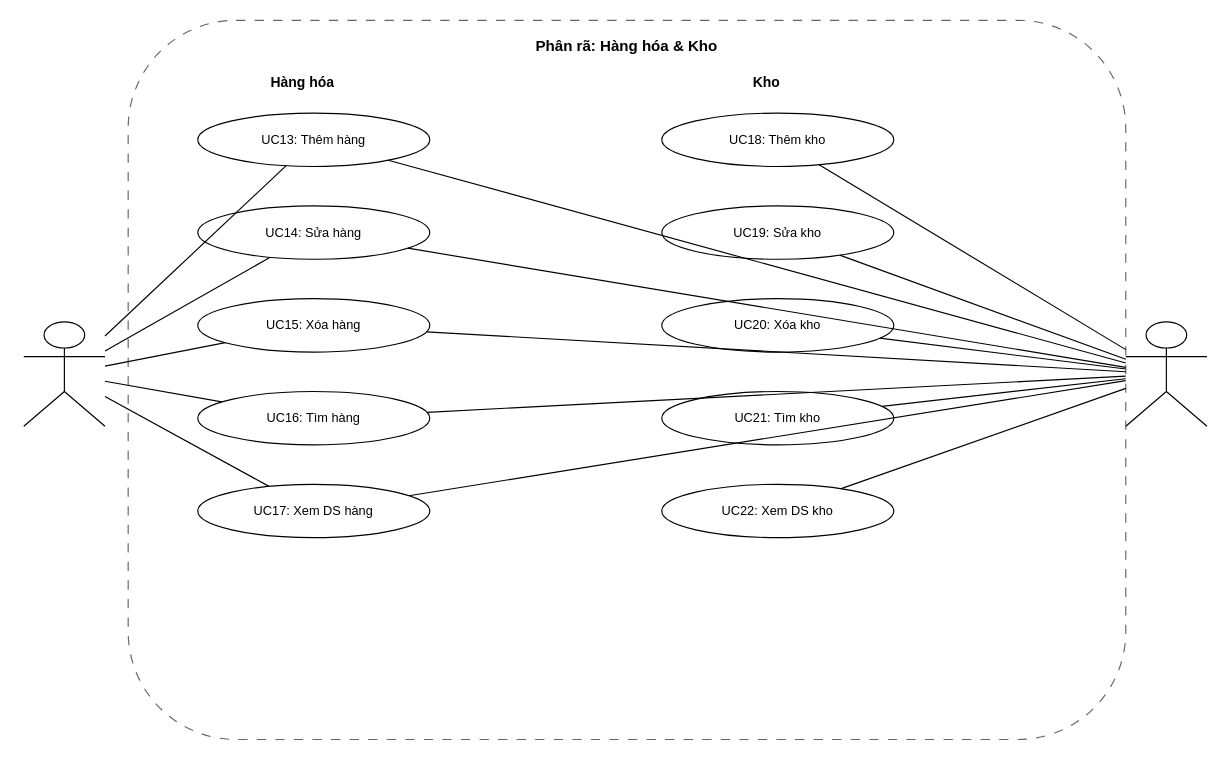
The diagram is 1227 pixels wide and 760 high, and some of its shapes have lost their labels. Here are the shapes that lost their labels. From the top down, the centre of each, then its label:
At [64,373]: "Nhân viên kho".
At [1166,373]: "Quản lý kho".
